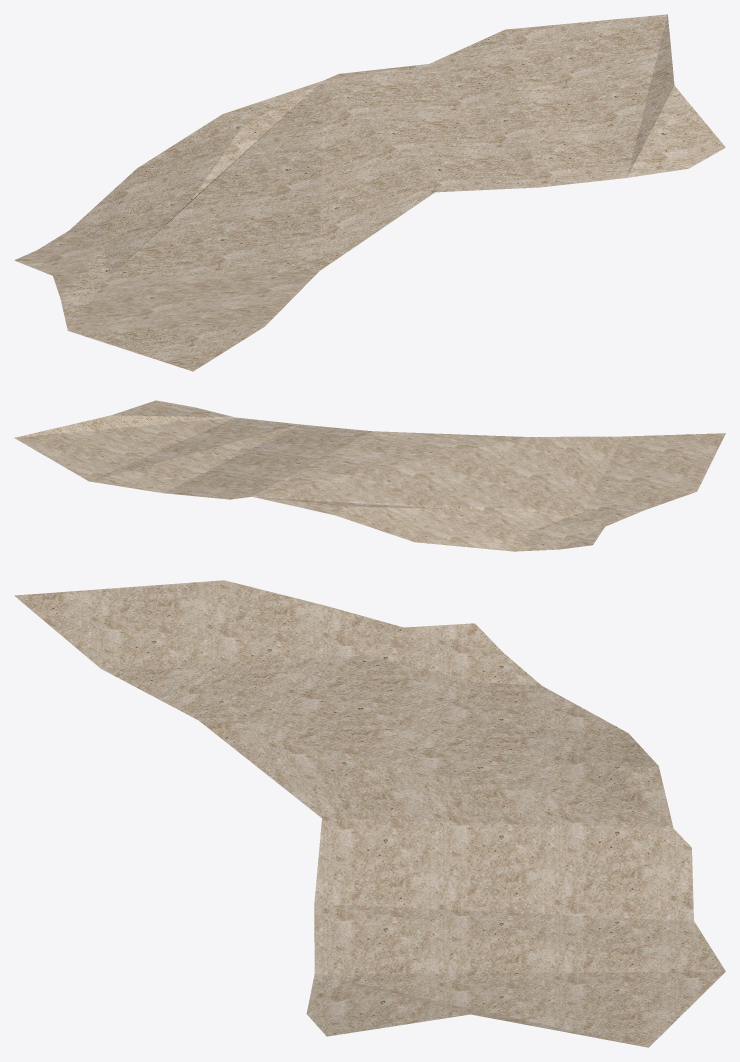
Rendered from sbcs_seabit13_new.obj.
3 views of the same model, one above another, from view 1: azimuth 30°, elevation 25°; view 2: azimuth 150°, elevation 25°; view 3: azimuth 270°, elevation 25° (orthographic). The views are drawn at different scales.
Parts seen in each view (by area): view 1: sbcs_seabit13_new; view 2: sbcs_seabit13_new; view 3: sbcs_seabit13_new.
Boxes of the visible parts, <box> form: sbcs_seabit13_new: <box>14,14,725,371</box>; sbcs_seabit13_new: <box>14,400,725,551</box>; sbcs_seabit13_new: <box>14,580,725,1047</box>.
Bounding box in the file's own units: 248 × 11.67 × 156.
